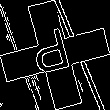P_S: (31, 26, 79, 84)
